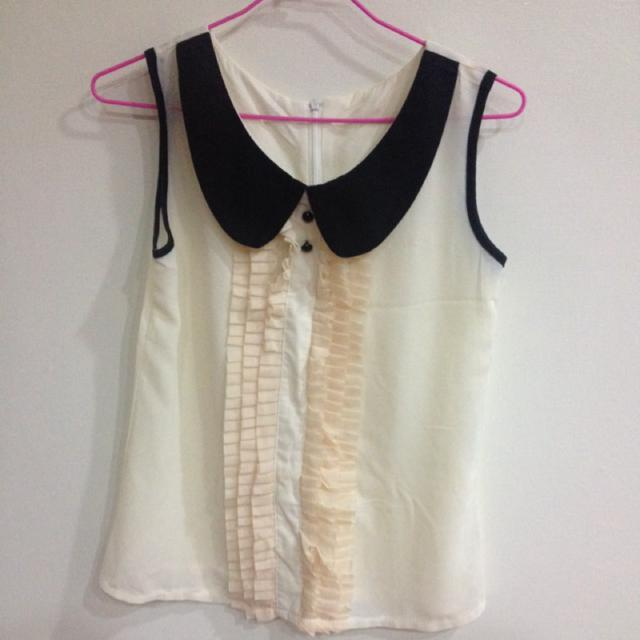Tops: (96, 25, 513, 640)
